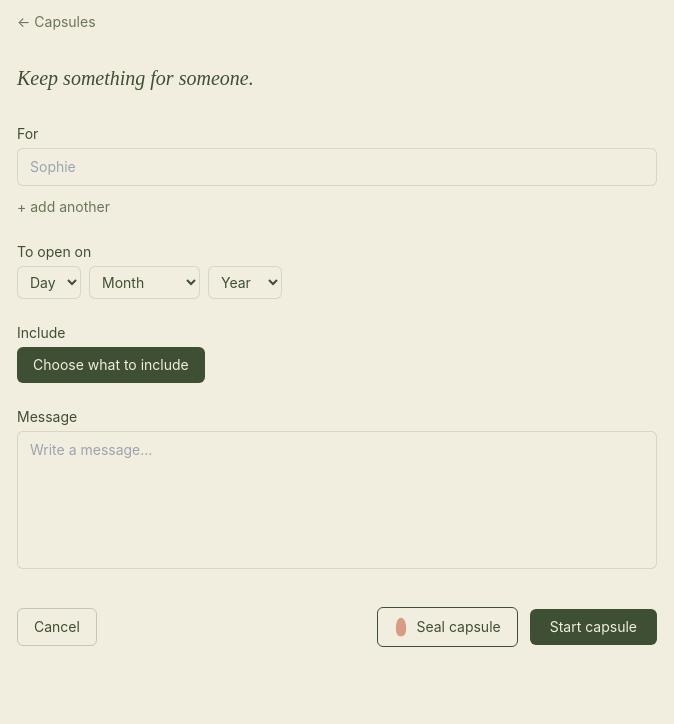
Scenario: CapsuleCreatePage › shows sealed-capsule upload validation error when Seal capsule clicked
This screenshot has width=674, height=724.
Click the button "Seal capsule": click(448, 627) [377,607,518,647]
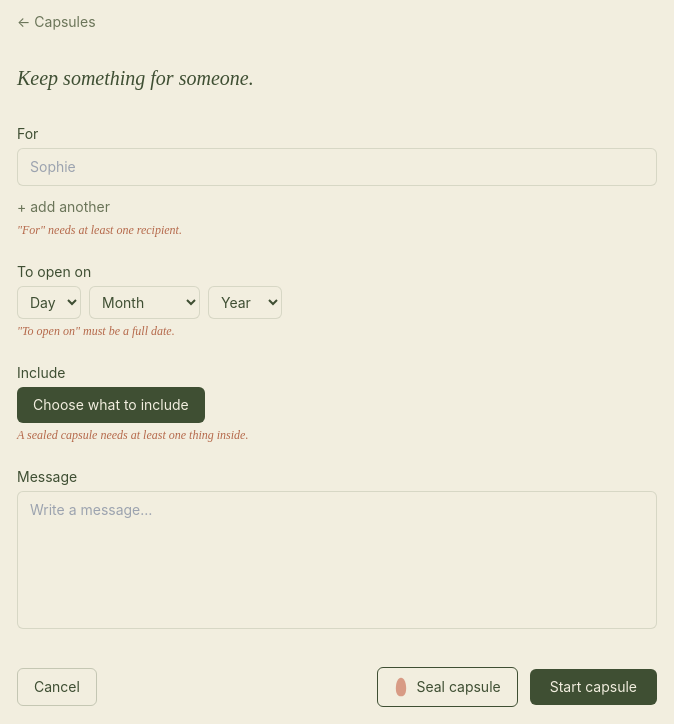
Now the text "A sealed capsule needs at least one thing inside." is shown, box [17,428,248,442]
